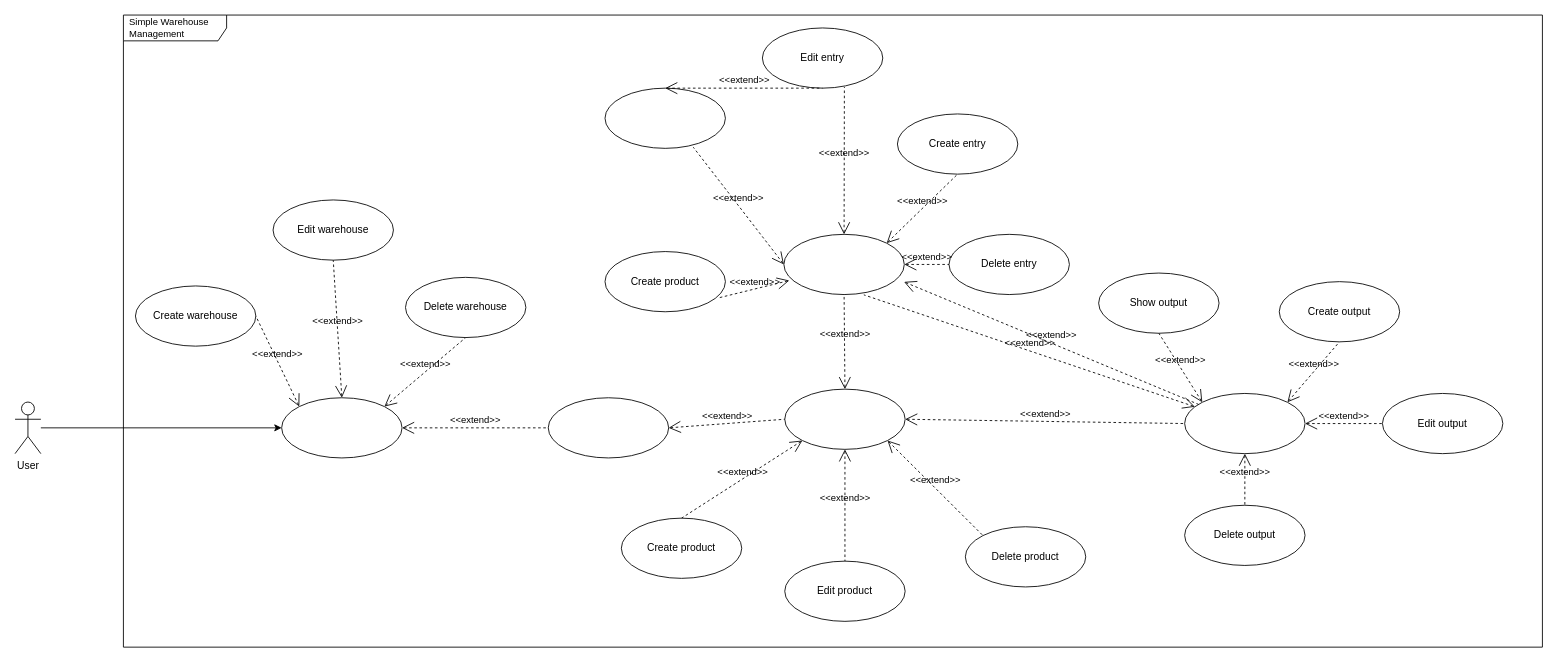
This 1557x662 diagram has some shape labels left out. Here are the shapes that lost their labels. From the top down, the box of each, then its label:
(604, 87, 725, 148): Show entry
(783, 233, 904, 295): List entries
(281, 397, 402, 458): List warehouses
(547, 397, 669, 458): Select warehouse
(784, 388, 905, 449): List warehouses products
(1184, 393, 1305, 454): List outputs
